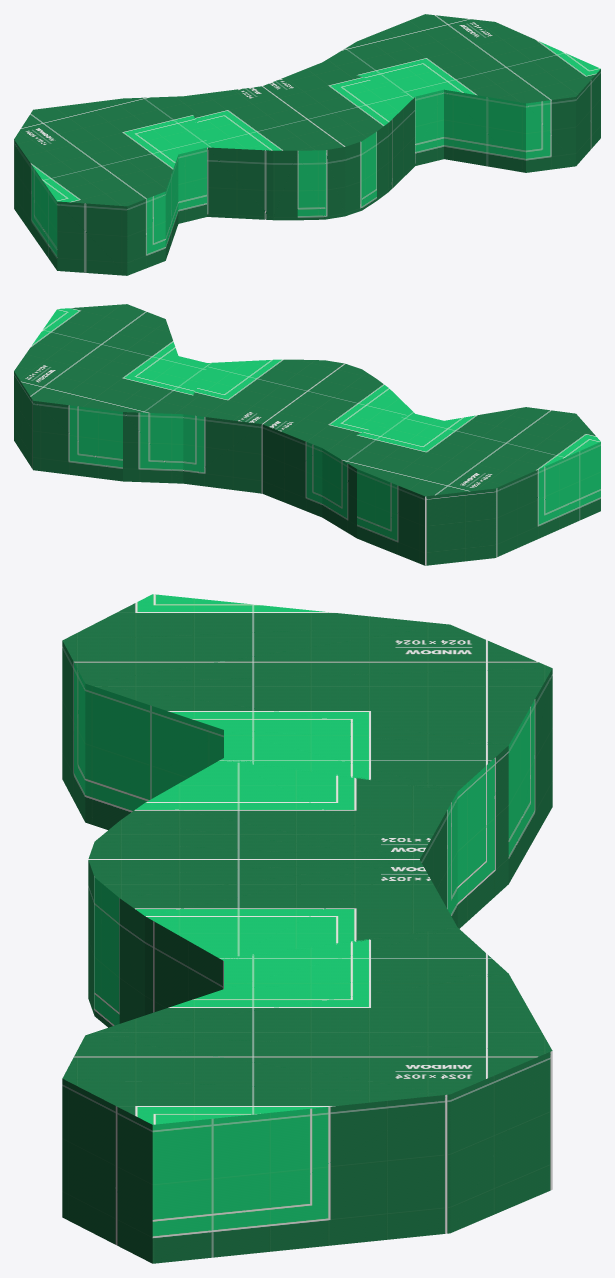
The model's file is flying_nav_mesh_blender.glb.
The picture shows the model from 3 angles, top to bottom: view 1: azimuth 30°, elevation 25°; view 2: azimuth 150°, elevation 25°; view 3: azimuth 270°, elevation 25°; orthographic projection. The views are drawn at different scales.
Parts seen in each view (by area): view 1: FlyingNavMesh; view 2: FlyingNavMesh; view 3: FlyingNavMesh.
Part boxes in pixels (x1,y1,x2,y2): FlyingNavMesh: [14, 14, 600, 275]; FlyingNavMesh: [14, 304, 600, 565]; FlyingNavMesh: [62, 594, 552, 1263].
Bounding box in the file's own units: 86 × 10.5 × 33.57.
1 material, 1 textured.
